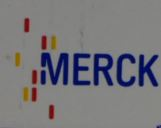Merck: (13, 15, 160, 121)
